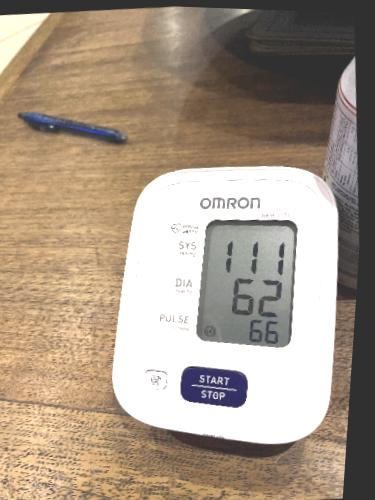bpm: (192, 210, 303, 349)
